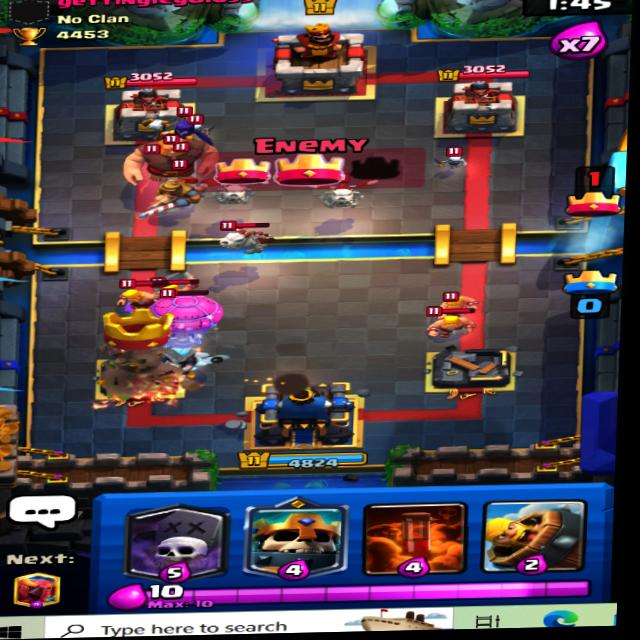balloon: (150, 293, 226, 357)
barbarian: (427, 303, 478, 337), (107, 281, 166, 309), (154, 273, 205, 299), (425, 286, 477, 311)
giant: (126, 127, 222, 184)
prince: (138, 169, 209, 219)
skeleton: (443, 147, 469, 169)
skeleton-dragon: (212, 165, 277, 204), (310, 173, 373, 213), (215, 215, 282, 250)
witch: (160, 107, 218, 151)
